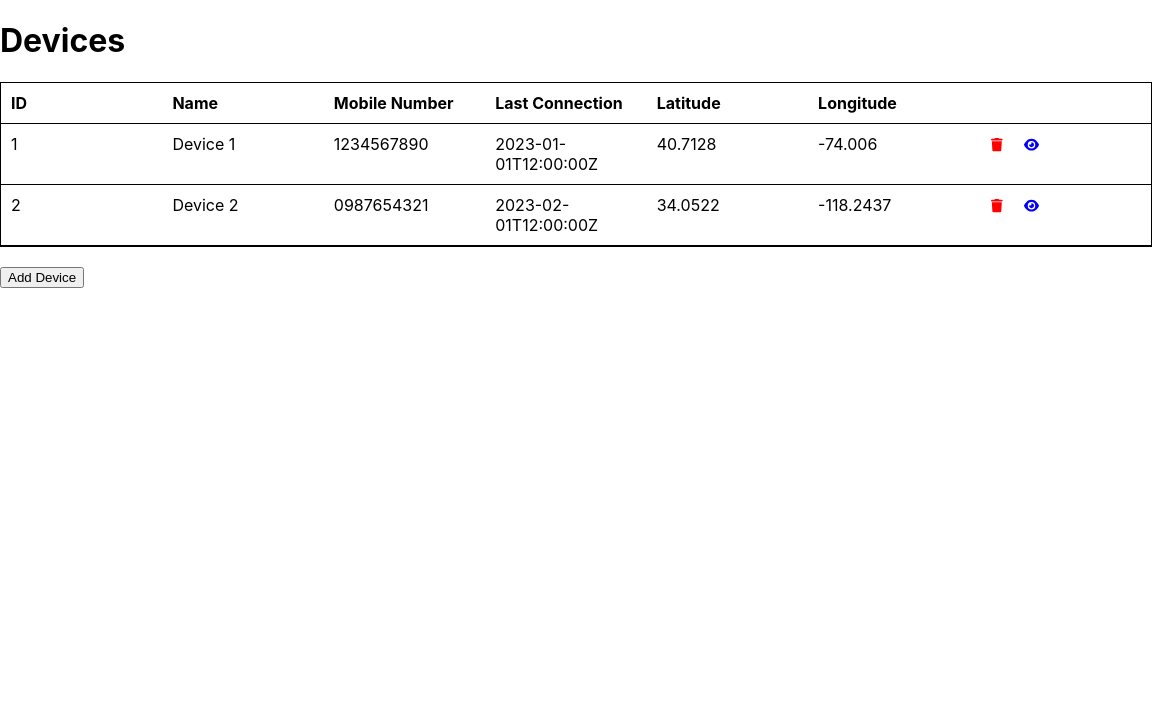
Test case: Devices Component › opens and closes the DeviceDetails modal
The width and height of the screenshot is (1152, 720).
Check: the text "Device 1" is shown, box 172,134 -> 235,154
Open DeviceDetails modal
What coordinates should you click on to do the following:
click the button named "detail device" next to "-74.006"
I would click on:
 (1032, 145)
Its box is 1018,137 -> 1045,154.
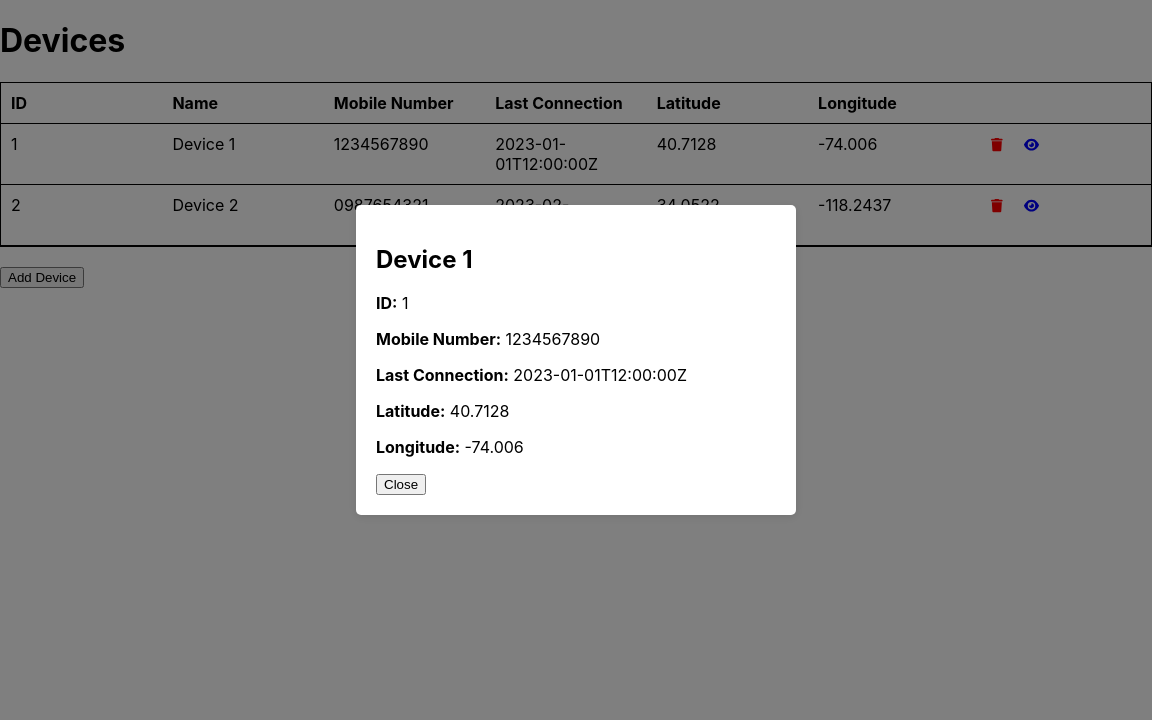
Check: the heading "Device 1" is shown, box 376,244 -> 472,274
Close modal
What coordinates should you click on to do the following:
click the button "Close"
I would click on:
 (401, 485)
Its box is 376,474 -> 426,495.
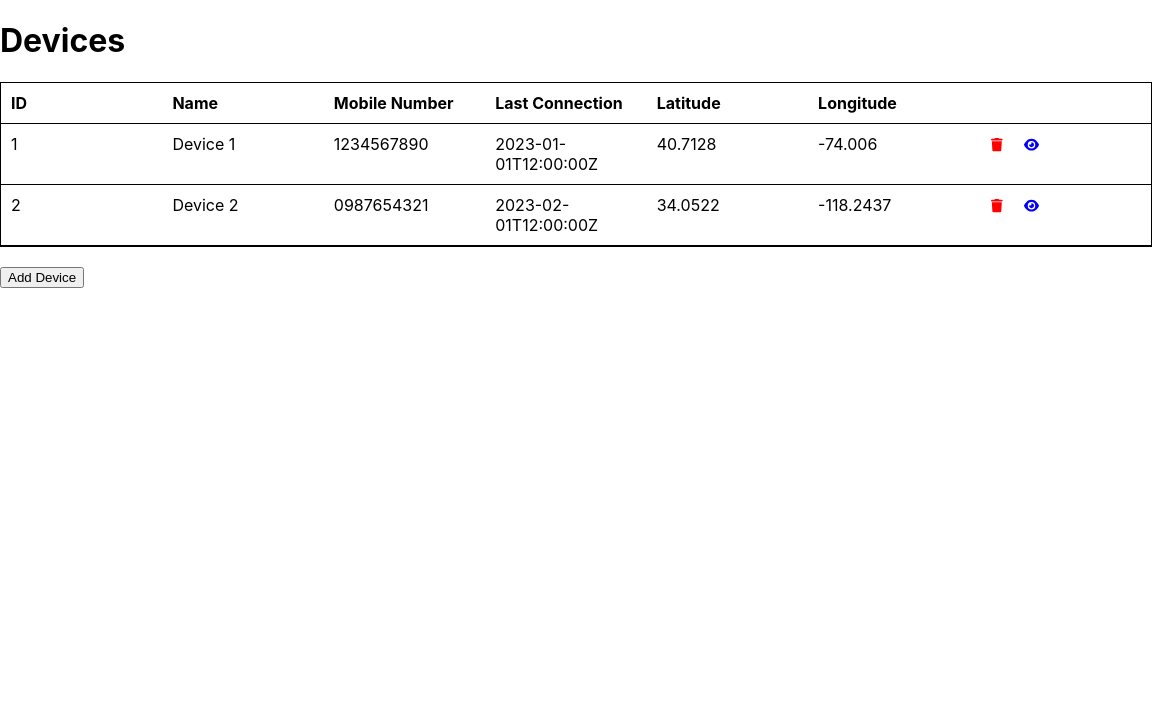
Check: the dialog is gone
